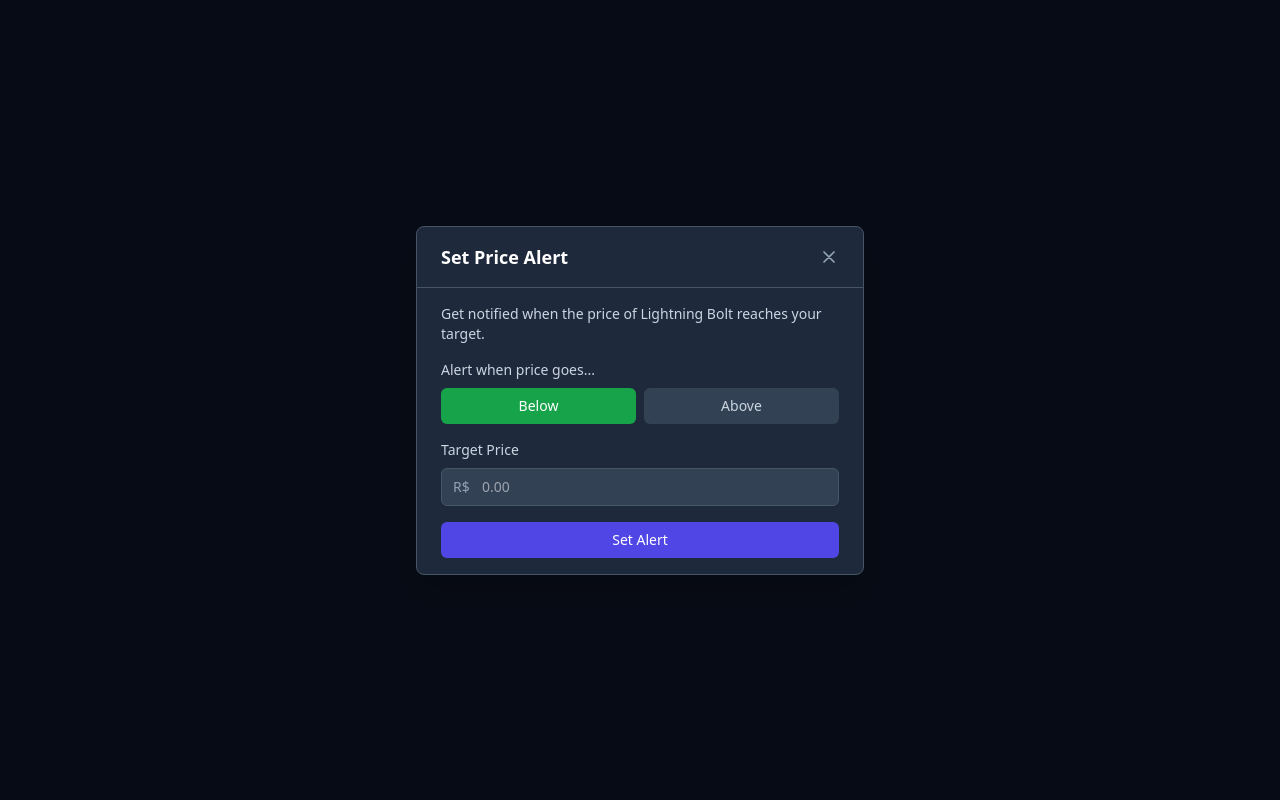
Test: SetAlertModal › submits alert successfully
This screenshot has width=1280, height=800.
Type "10.50" into the number field with test id "target-price-input" at (640, 486), box [441, 468, 839, 506]
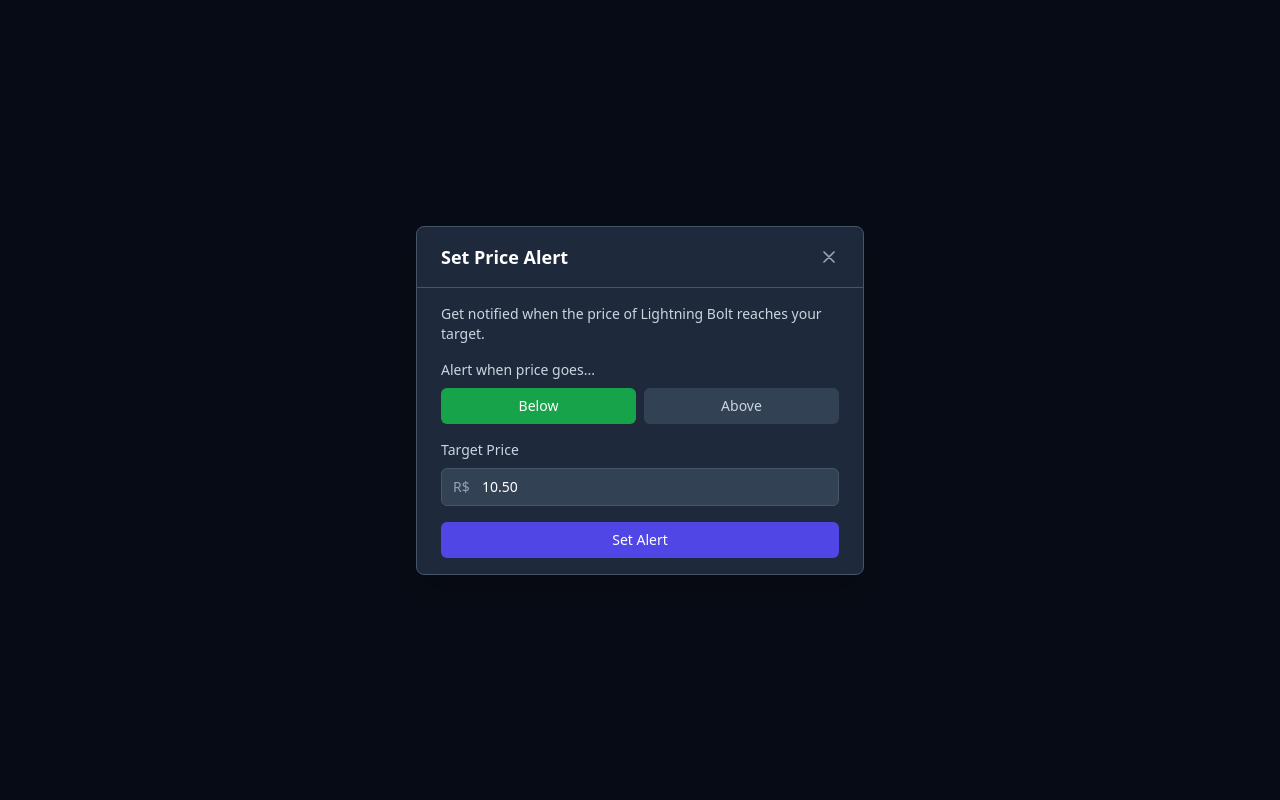
Click the button with test id "submit-alert" at (640, 540), box [441, 522, 839, 558]
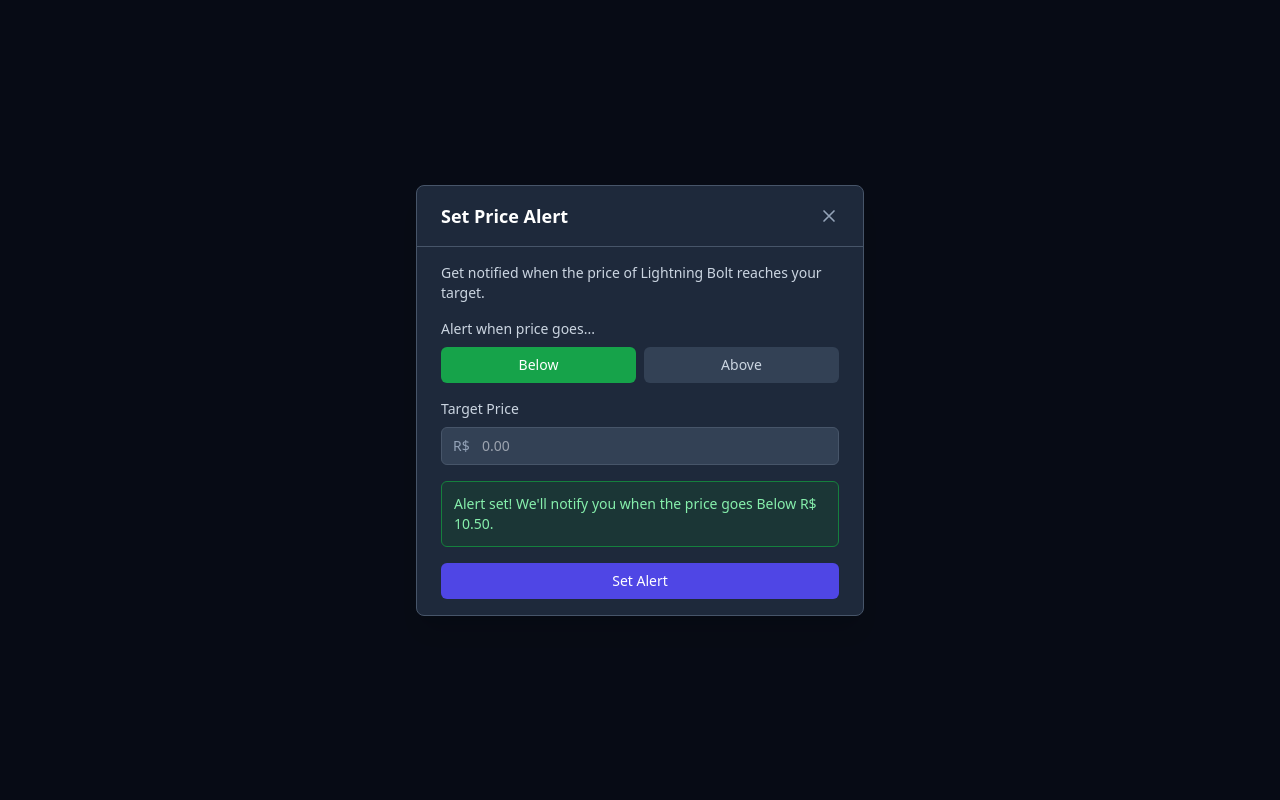
Expected: the text with test id "alert-success" is shown, [441, 480, 839, 546]
